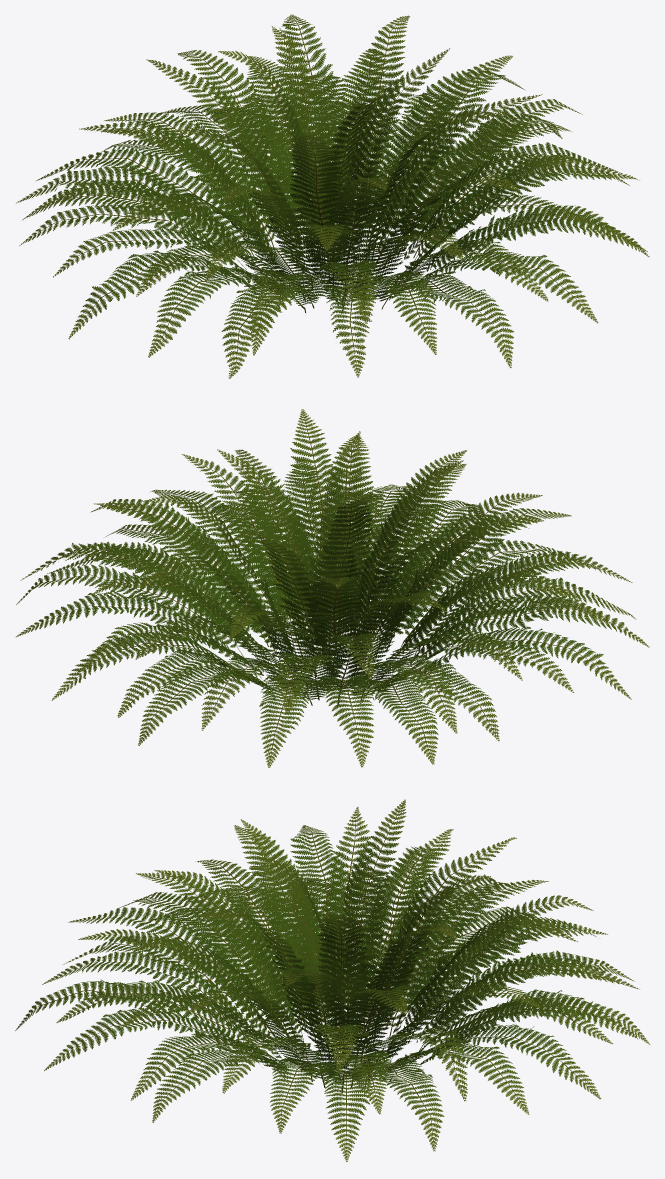
File: matteuccia_struthiopteris_a001_lod1.gltf
3 renders of one model, top to bottom at view 1: azimuth 30°, elevation 25°; view 2: azimuth 150°, elevation 25°; view 3: azimuth 270°, elevation 25°, orthographic. The views are drawn at different scales.
Visible parts, largest first — view 1: Matteuccia_struthiopteris__A001; view 2: Matteuccia_struthiopteris__A001; view 3: Matteuccia_struthiopteris__A001.
Boxes of the visible parts, bbox=[...] form: Matteuccia_struthiopteris__A001: bbox=[16, 14, 649, 378]; Matteuccia_struthiopteris__A001: bbox=[16, 409, 649, 767]; Matteuccia_struthiopteris__A001: bbox=[15, 799, 649, 1161].
Size of the model in its own units: 2.76 by 1.02 by 2.69.
1 material, 1 textured.
